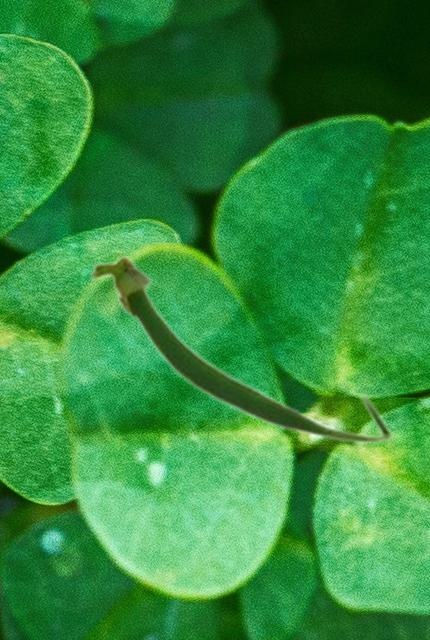french_bean: (87, 252, 394, 445)
